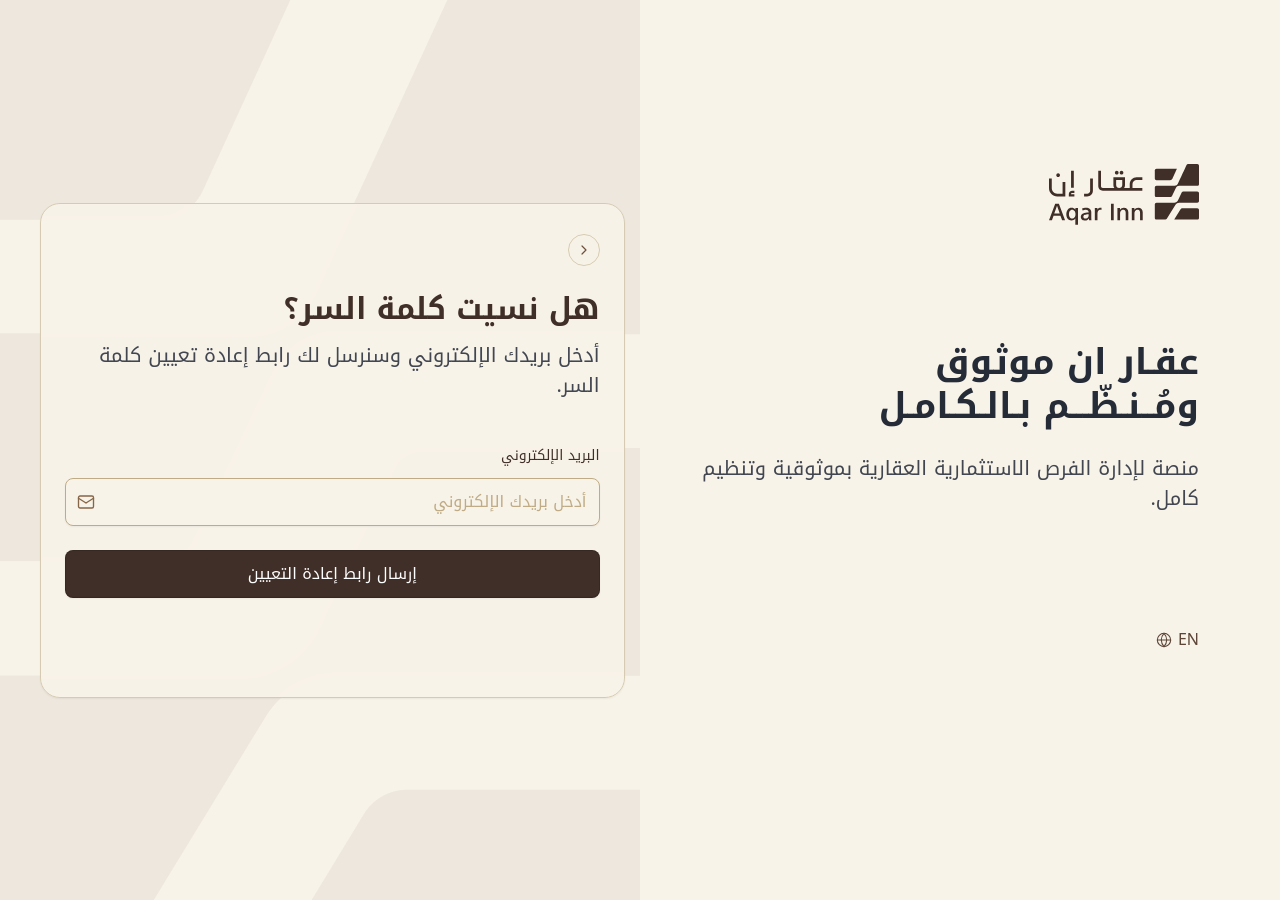
Test: Auth flow routes › submits forgot password and moves to the reset page with the email context
This screenshot has width=1280, height=900.
Type "admin@example.com" into the field with placeholder "أدخل بريدك الإلكتروني" at (332, 502), box [65,478,600,526]
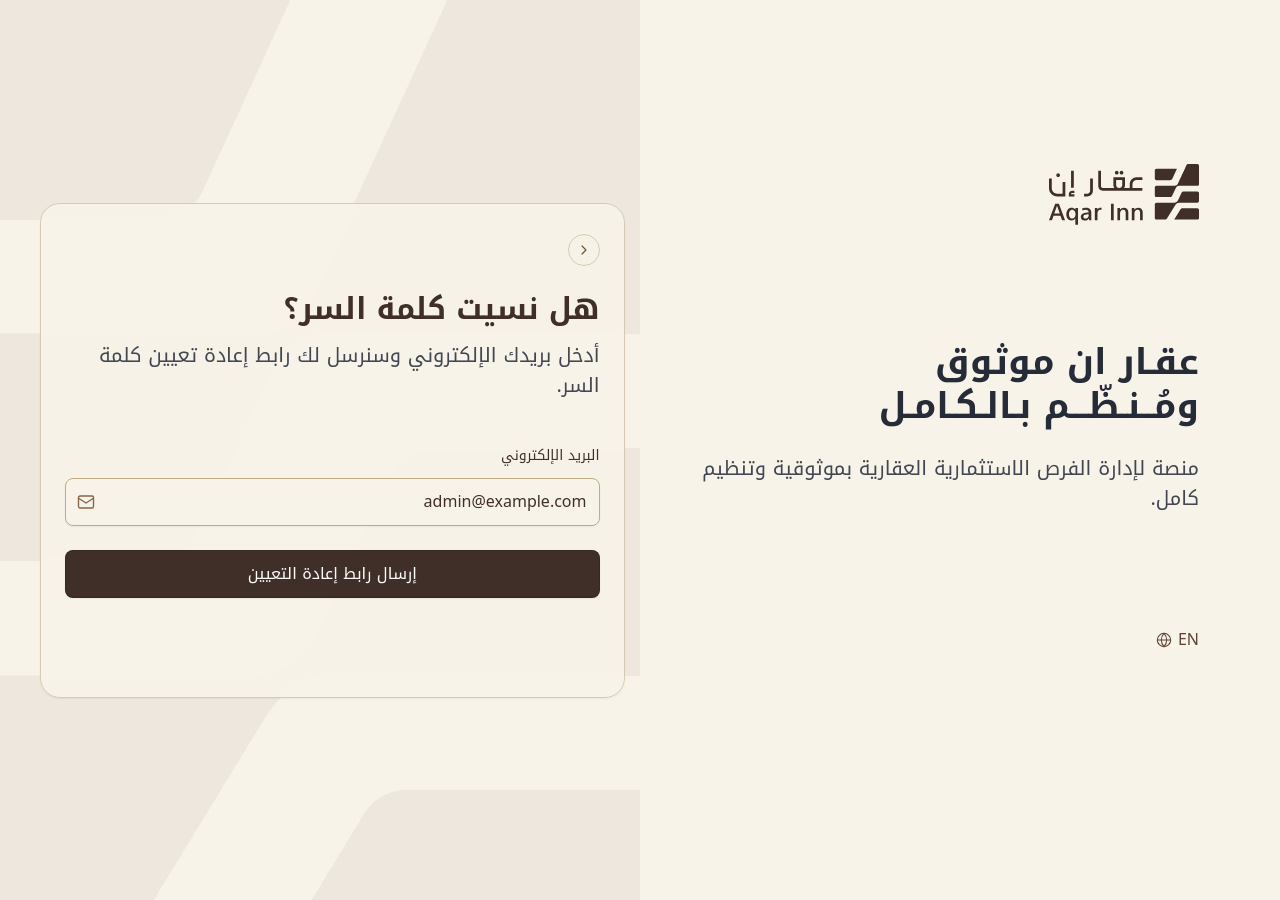
Click the button "إرسال رابط إعادة التعيين" at (332, 574), box [65,550,600,598]
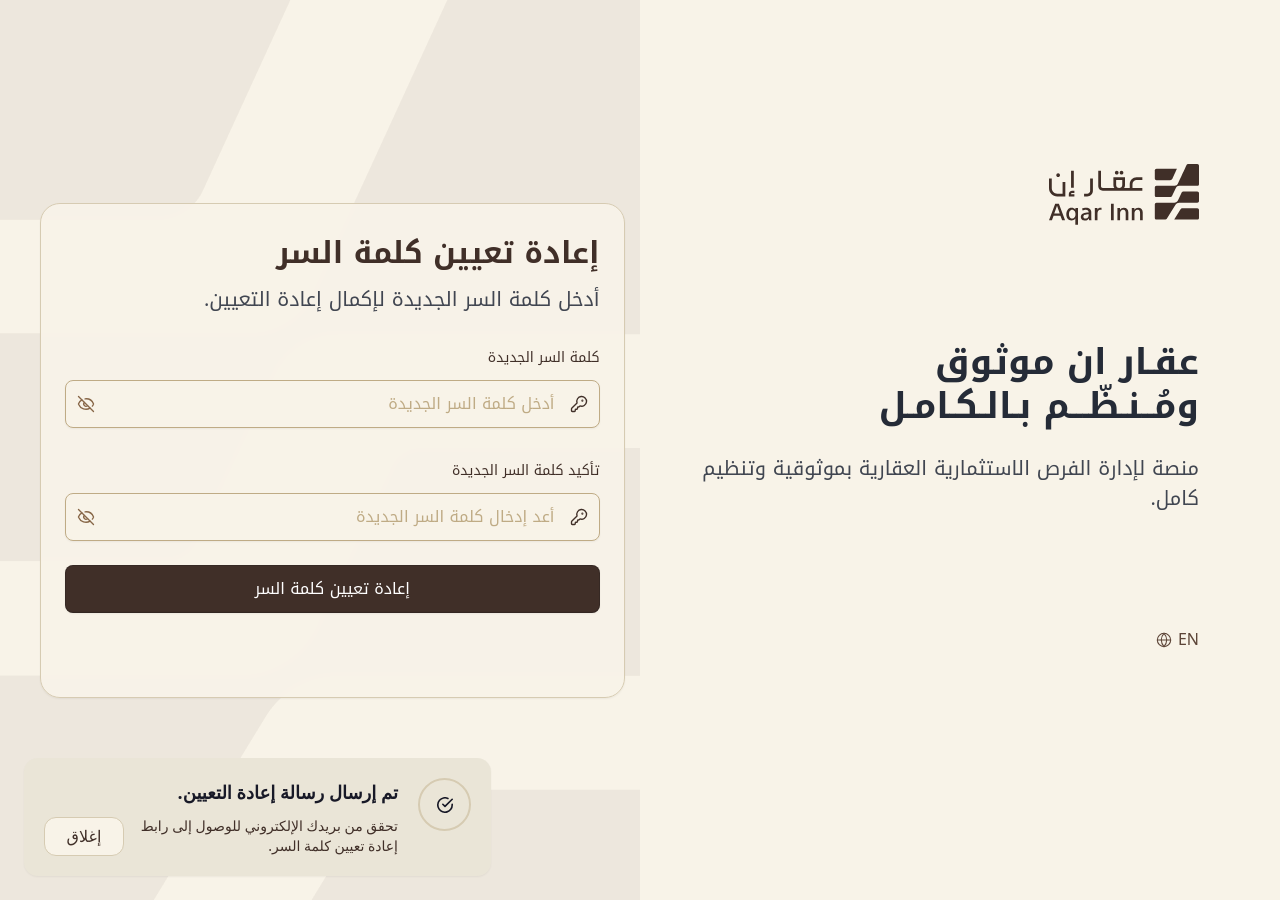
Now the heading "إعادة تعيين كلمة السر" is shown, box [276,224,600,280]
